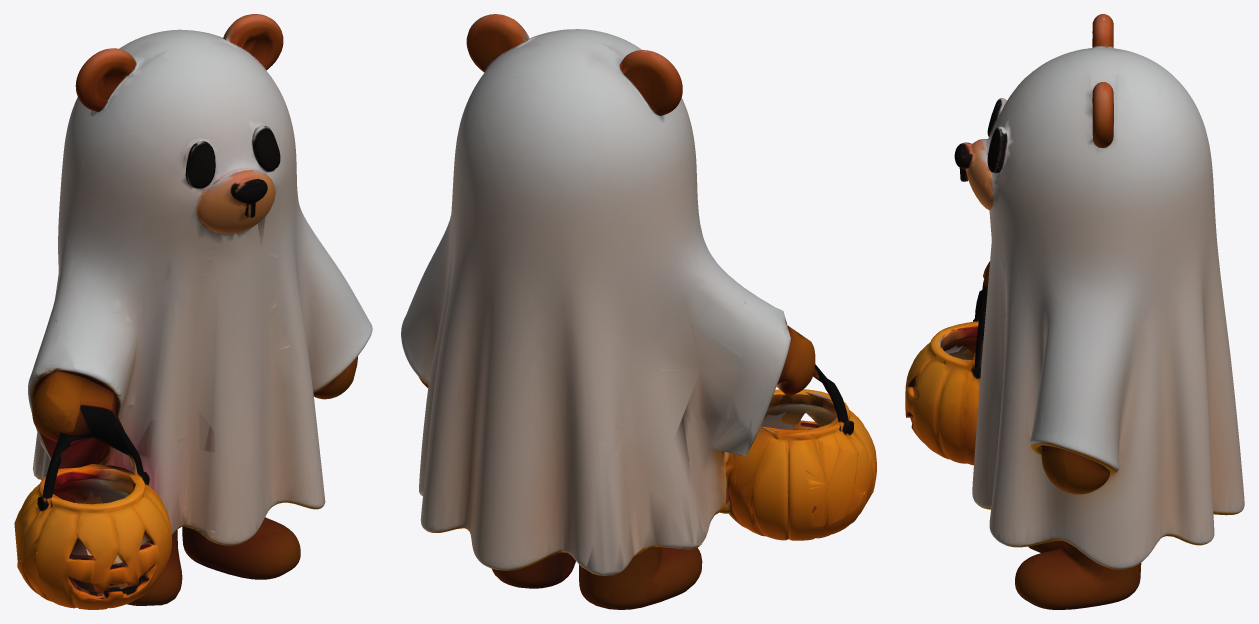
The picture shows the model from 3 angles, left to right: view 1: azimuth 30°, elevation 25°; view 2: azimuth 150°, elevation 25°; view 3: azimuth 270°, elevation 25°; orthographic projection. The views are drawn at different scales.
Parts seen in each view (by area): view 1: texture_pbr_v128; view 2: texture_pbr_v128; view 3: texture_pbr_v128.
Boxes of the visible parts, left/top/right/bottom form: texture_pbr_v128: left=14, top=14, right=372, bottom=609; texture_pbr_v128: left=401, top=14, right=876, bottom=609; texture_pbr_v128: left=905, top=14, right=1244, bottom=609.
Bounding box in the file's own units: 0.8412 × 1.08 × 0.6423.
1 material, 1 textured.
